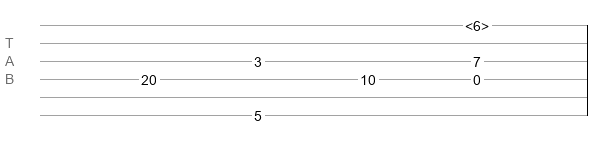0: (473, 72, 481, 82)
10: (360, 72, 376, 82)
20: (141, 72, 157, 82)
3: (254, 54, 262, 64)
5: (254, 108, 262, 118)
7: (473, 54, 481, 64)
harmonic: (465, 18, 489, 28)
